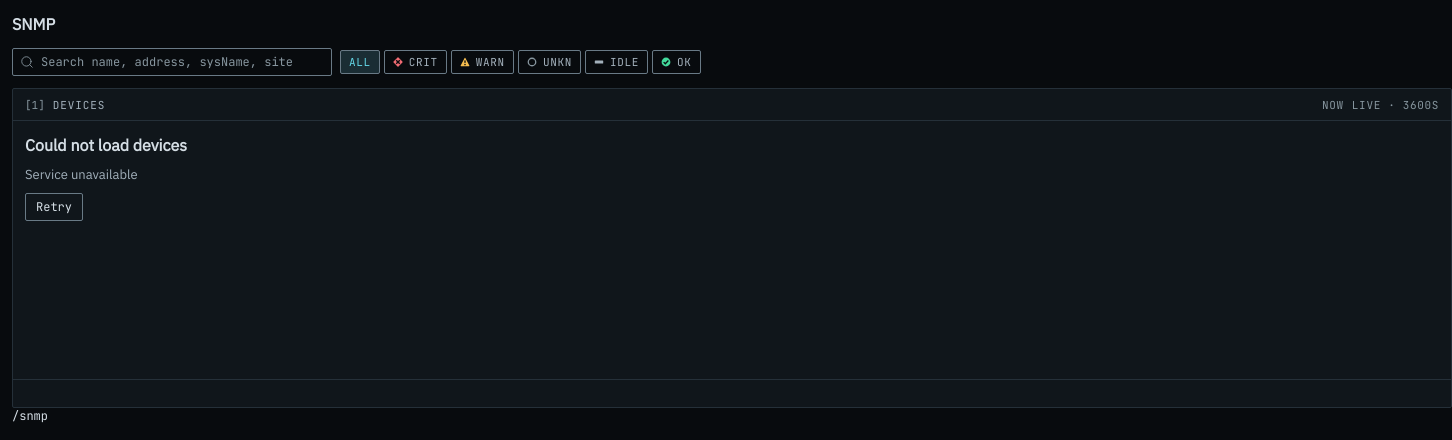
Test: empty, error and provenance › shows an inline error with Retry, never sample data, and recovers
expect the message shows "Could not load devices": met, box [25, 135, 187, 155]
Click the button "Retry" at [54, 207], box [25, 193, 83, 221]
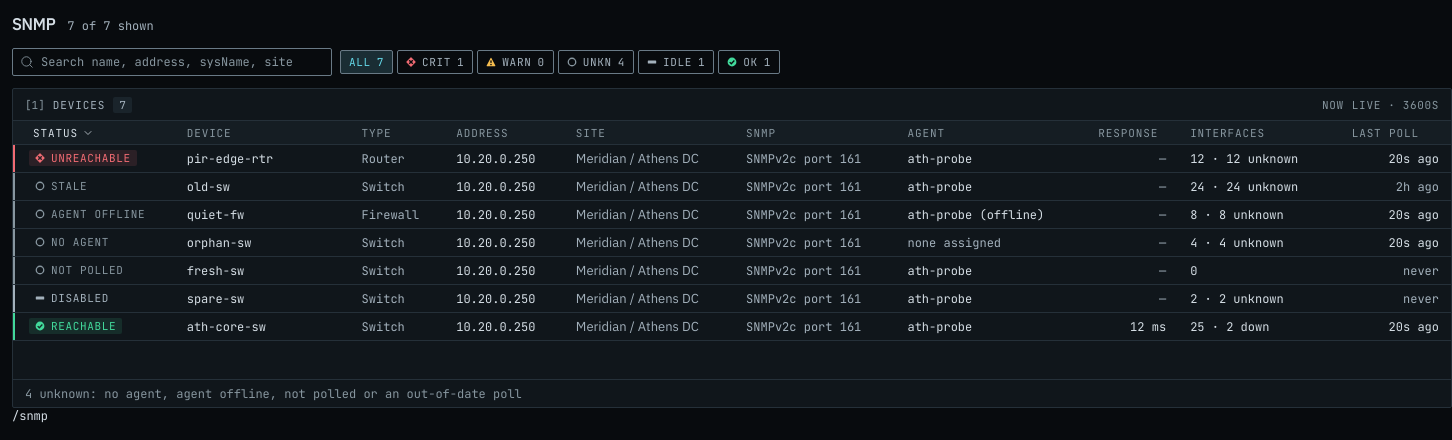
expect the message "Could not load devices Service unavailable Retry" is gone: met
